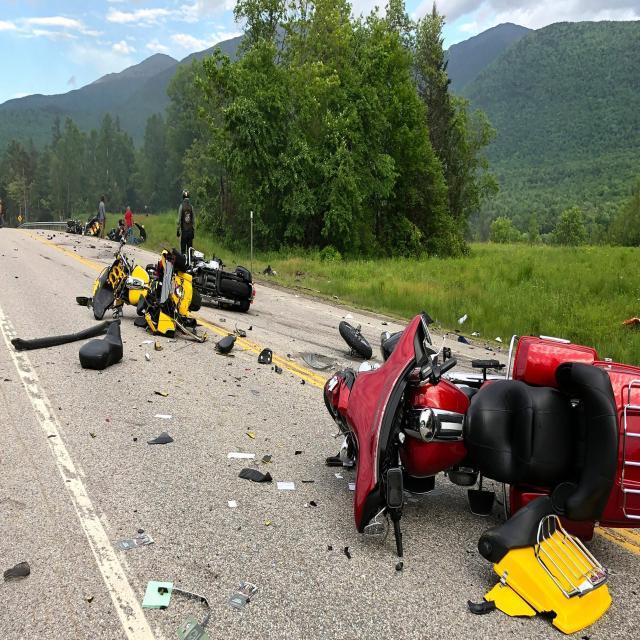accident: (304, 322, 640, 638), (75, 242, 267, 370)
